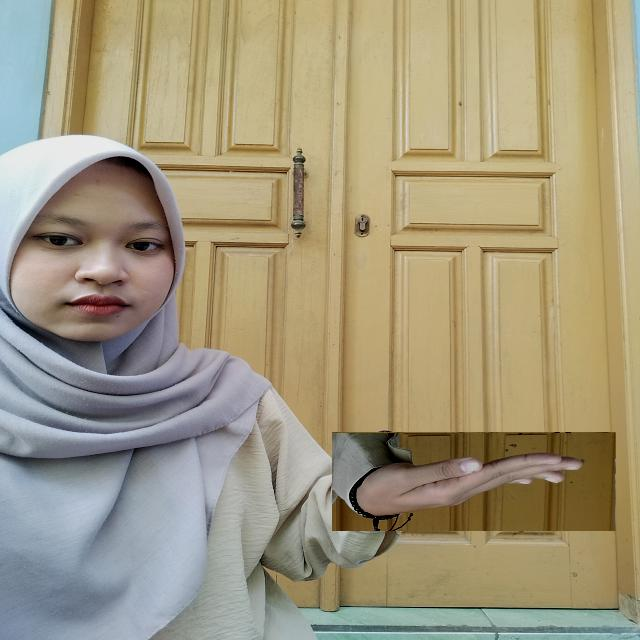adik: (332, 432, 616, 531)
